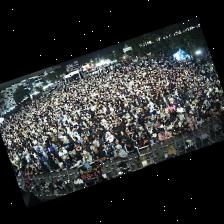person: (123, 141, 141, 163), (58, 148, 71, 167), (63, 139, 75, 156), (139, 134, 150, 152), (38, 154, 50, 170), (93, 147, 106, 161), (171, 122, 184, 136), (158, 128, 171, 141), (113, 145, 126, 158), (129, 129, 139, 144), (80, 143, 91, 155), (72, 154, 82, 167), (82, 152, 92, 164), (105, 132, 113, 146), (93, 135, 103, 146), (163, 121, 172, 133), (120, 131, 129, 143), (163, 113, 173, 123), (91, 127, 100, 138), (40, 162, 49, 173), (202, 110, 211, 121), (92, 141, 103, 150), (176, 111, 184, 123), (186, 112, 194, 124), (55, 158, 63, 170), (32, 158, 40, 170), (152, 124, 160, 136), (113, 138, 122, 148), (25, 165, 34, 175), (143, 129, 151, 140), (167, 101, 175, 112), (100, 119, 108, 130), (39, 149, 47, 160), (107, 146, 113, 160), (103, 141, 109, 155), (182, 120, 189, 132), (172, 117, 181, 126), (150, 134, 158, 144), (209, 109, 216, 120), (146, 122, 152, 134), (96, 175, 105, 183), (189, 121, 197, 130), (160, 108, 167, 118), (20, 168, 27, 176), (125, 125, 130, 136), (182, 109, 187, 119), (157, 120, 163, 128), (176, 104, 182, 112), (137, 127, 142, 136)
